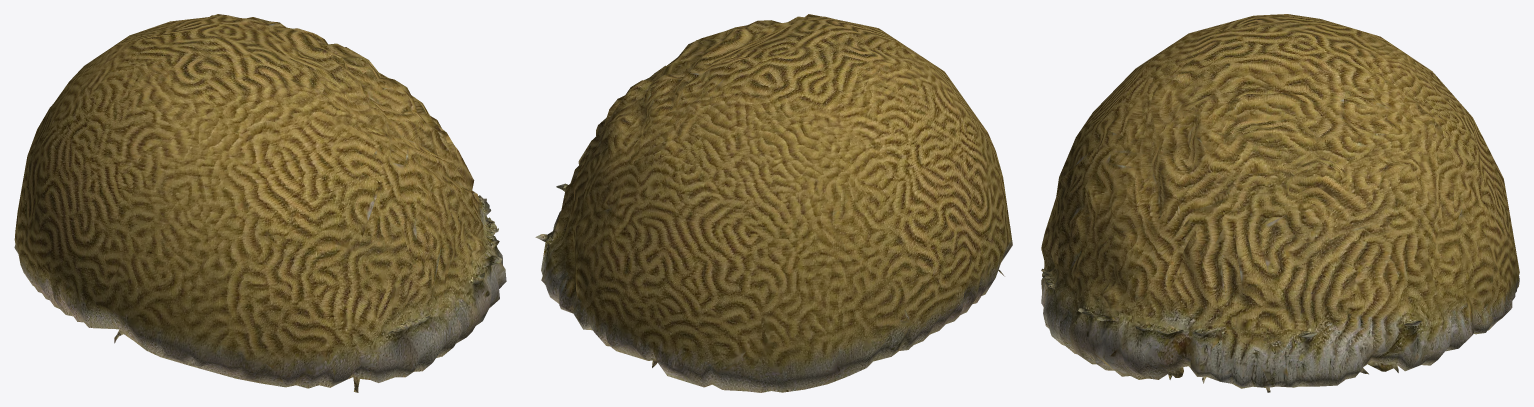
Rendered from hersenkoraal.glb.
3 views of the same model, side by side, from view 1: azimuth 30°, elevation 25°; view 2: azimuth 150°, elevation 25°; view 3: azimuth 270°, elevation 25° (orthographic).
Parts seen in each view (by area): view 1: tripo_node_bb59068b-c5ad-43bf-8c9d-74d71ceb09d6; view 2: tripo_node_bb59068b-c5ad-43bf-8c9d-74d71ceb09d6; view 3: tripo_node_bb59068b-c5ad-43bf-8c9d-74d71ceb09d6.
Boxes of the visible parts, x1,y1,x2,y2 form: tripo_node_bb59068b-c5ad-43bf-8c9d-74d71ceb09d6: [14, 14, 506, 392]; tripo_node_bb59068b-c5ad-43bf-8c9d-74d71ceb09d6: [535, 14, 1012, 392]; tripo_node_bb59068b-c5ad-43bf-8c9d-74d71ceb09d6: [1041, 14, 1519, 392].
Size of the model in its own units: 0.4771 by 0.3 by 0.4848.
1 material, 1 textured.
